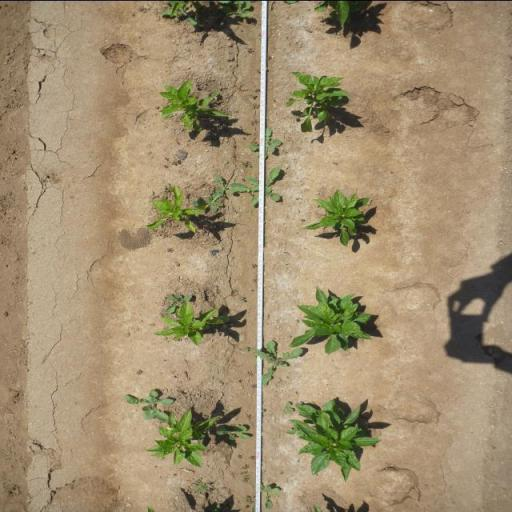plant: (285, 394, 381, 482), (286, 286, 374, 359), (143, 405, 222, 468), (284, 65, 356, 134), (300, 186, 376, 248), (154, 78, 231, 133), (143, 183, 209, 237), (152, 302, 225, 345)
weed: (253, 339, 305, 389), (230, 165, 283, 208), (122, 386, 176, 421), (248, 128, 282, 161), (158, 291, 196, 314), (190, 193, 225, 213), (260, 480, 282, 510), (214, 424, 252, 440), (222, 0, 253, 18), (214, 173, 236, 194), (193, 476, 213, 494), (281, 400, 294, 413), (206, 503, 224, 512), (244, 494, 256, 504), (170, 157, 184, 165), (292, 109, 302, 120), (162, 183, 172, 194), (211, 88, 221, 96), (240, 462, 250, 470), (241, 475, 251, 483), (252, 101, 260, 110), (240, 160, 252, 166), (177, 389, 186, 396), (237, 295, 246, 301), (249, 92, 257, 98), (166, 247, 174, 253), (243, 346, 250, 352), (251, 263, 258, 268)
